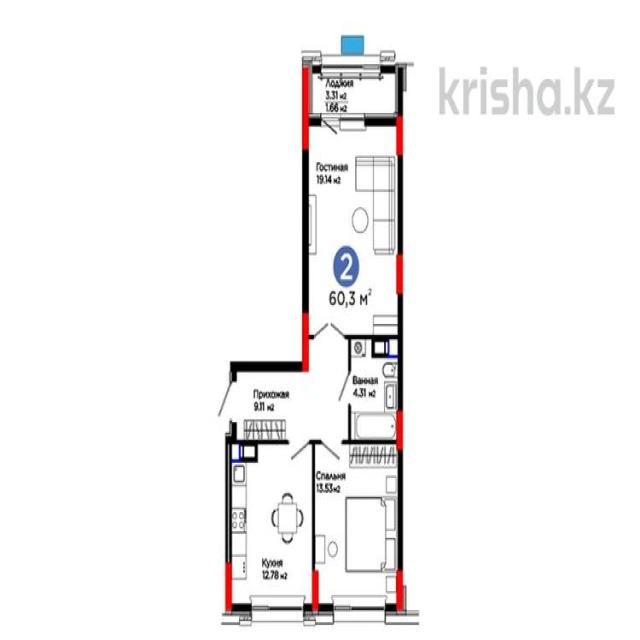balcony: (307, 57, 401, 122)
bathroom: (350, 339, 403, 441)
hallway: (230, 365, 350, 438)
kitchen: (228, 441, 315, 609)
living_room: (304, 121, 399, 338), (314, 444, 404, 612)
